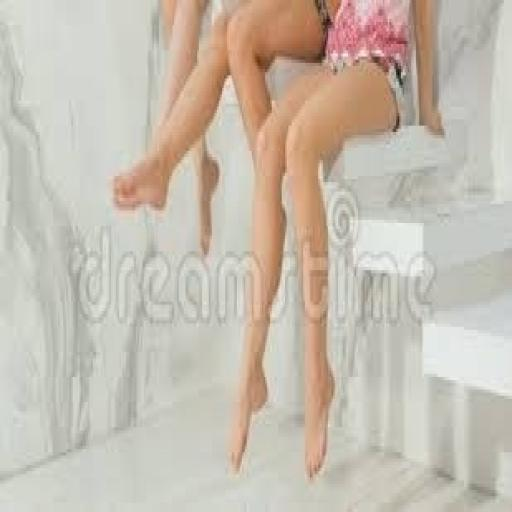sitting: (109, 0, 446, 481)
